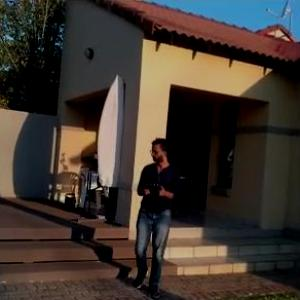follow: (130, 137, 183, 299)
